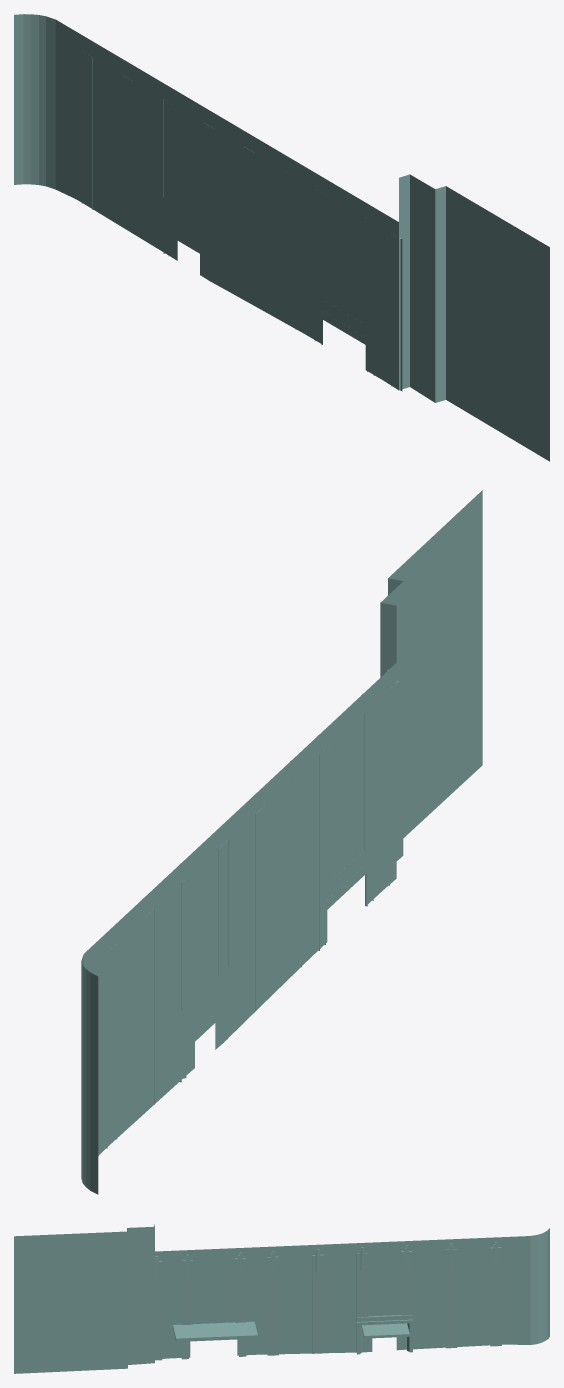
File: bj_beiyuandajiudian_outdoor.FBX
3 renders of one model, top to bottom at view 1: azimuth 30°, elevation 25°; view 2: azimuth 150°, elevation 25°; view 3: azimuth 270°, elevation 25°, orthographic. The views are drawn at different scales.
Parts seen in each view (by area): view 1: beiyuan_01; view 2: beiyuan_01; view 3: beiyuan_01.
Part boxes in pixels (x1,y1,x2,y2): beiyuan_01: [14, 14, 549, 461]; beiyuan_01: [81, 490, 482, 1194]; beiyuan_01: [14, 1224, 549, 1373].
Size of the model in its own units: 17.64 by 108 by 30.7.
